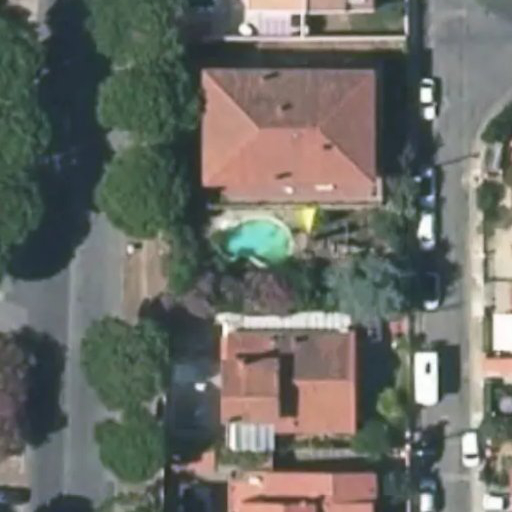pool: (218, 223, 293, 261)
